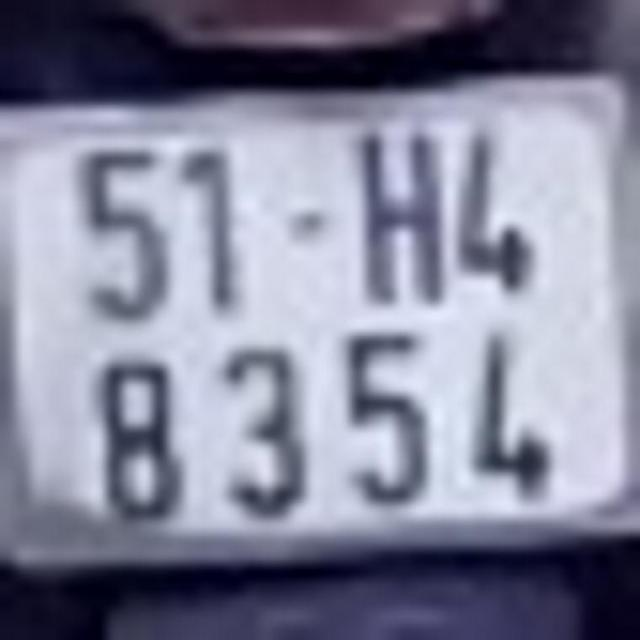1: (178, 143, 242, 314)
3: (222, 345, 314, 513)
4: (465, 322, 562, 504), (456, 122, 540, 301)
5: (338, 326, 436, 514), (70, 142, 173, 316)
8: (92, 354, 182, 517)
H: (354, 120, 449, 312)
